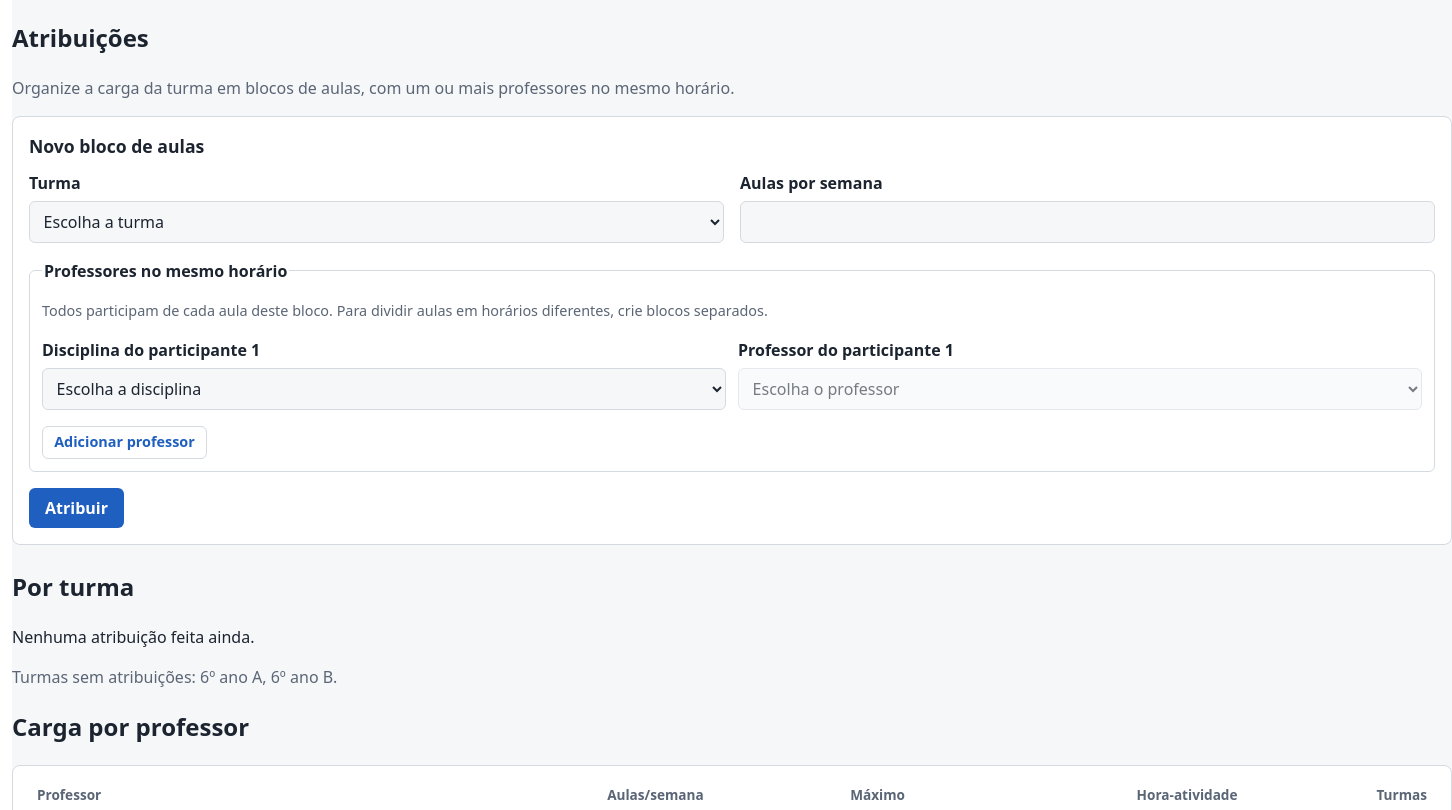
AssignmentsPage › seleciona sozinho o único professor habilitado
Select "Matemática" in the dropdown with id "assignment-subject-0" at (384,389), box top-left (42, 368), bottom-right (726, 410)
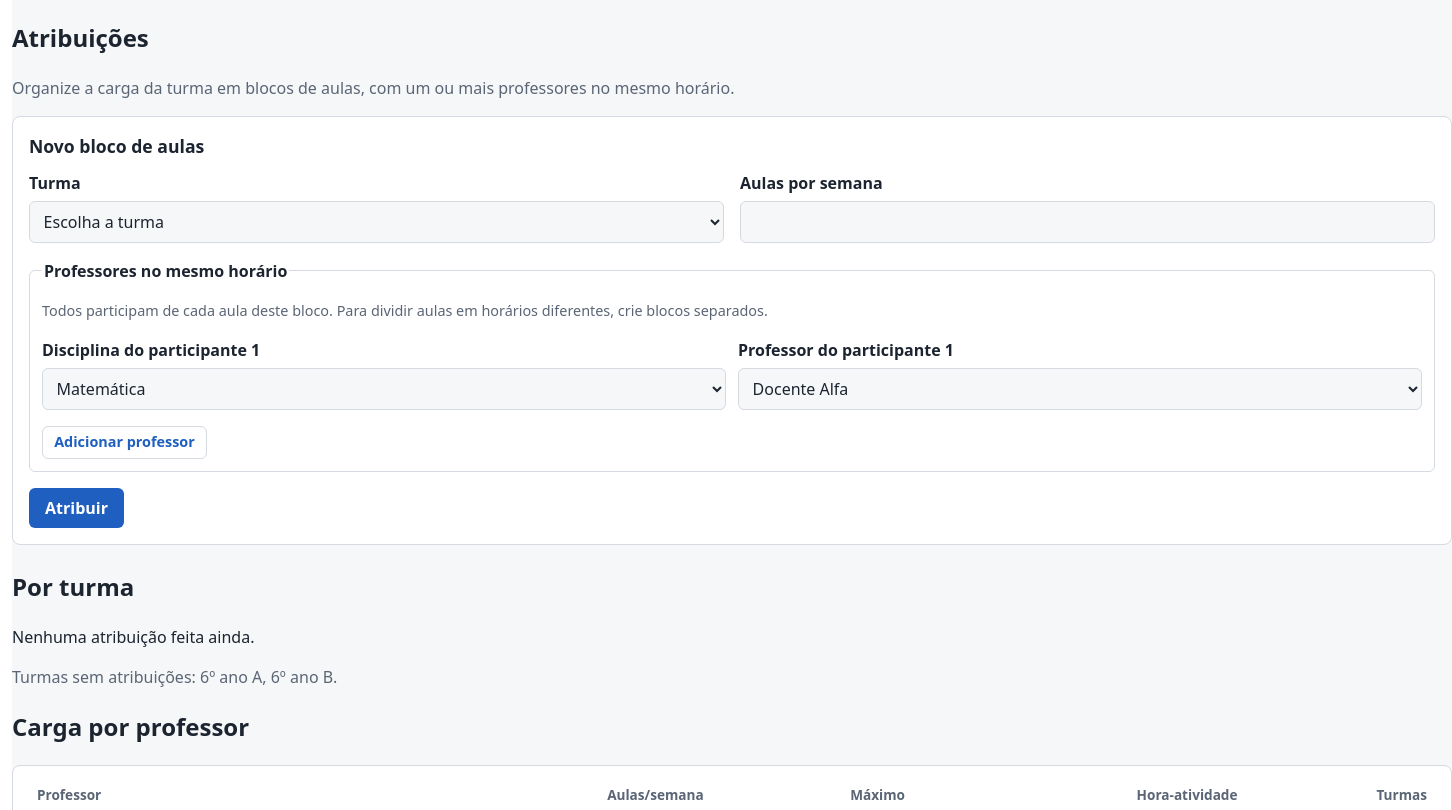
Now the dropdown with id "assignment-teacher-0" shows "Docente Alfa", box top-left (738, 368), bottom-right (1422, 410)
